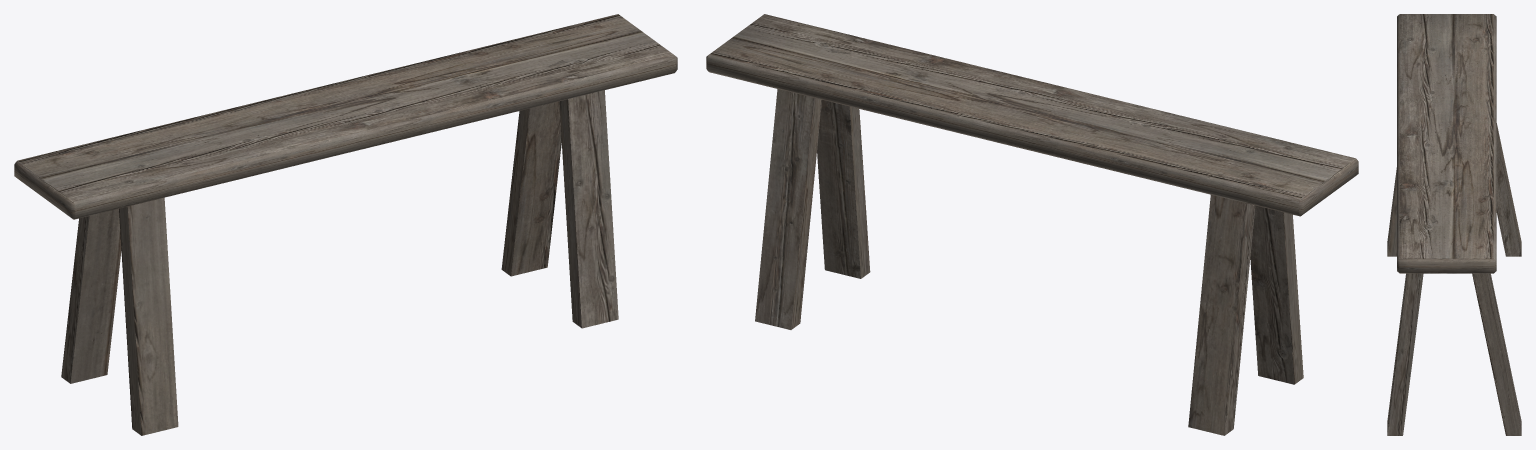
The model's file is bench_high_fbx.FBX.
The picture shows the model from 3 angles, left to right: view 1: azimuth 30°, elevation 25°; view 2: azimuth 150°, elevation 25°; view 3: azimuth 270°, elevation 25°; orthographic projection. The views are drawn at different scales.
Parts seen in each view (by area): view 1: bench_high; view 2: bench_high; view 3: bench_high.
Boxes of the visible parts, bbox=[...] form: bench_high: bbox=[14, 14, 677, 435]; bench_high: bbox=[706, 14, 1358, 435]; bench_high: bbox=[1387, 14, 1521, 435].
Size of the model in its own units: 215 by 49.36 by 82.45.
